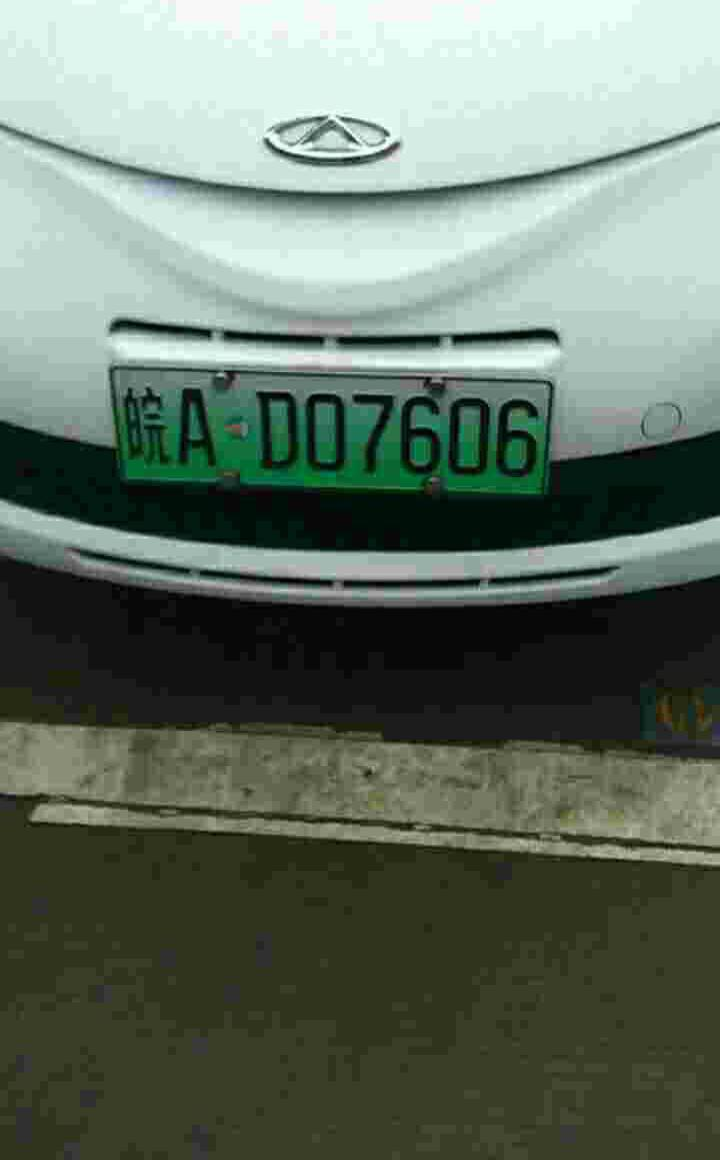car_green: (106, 358, 563, 508)
